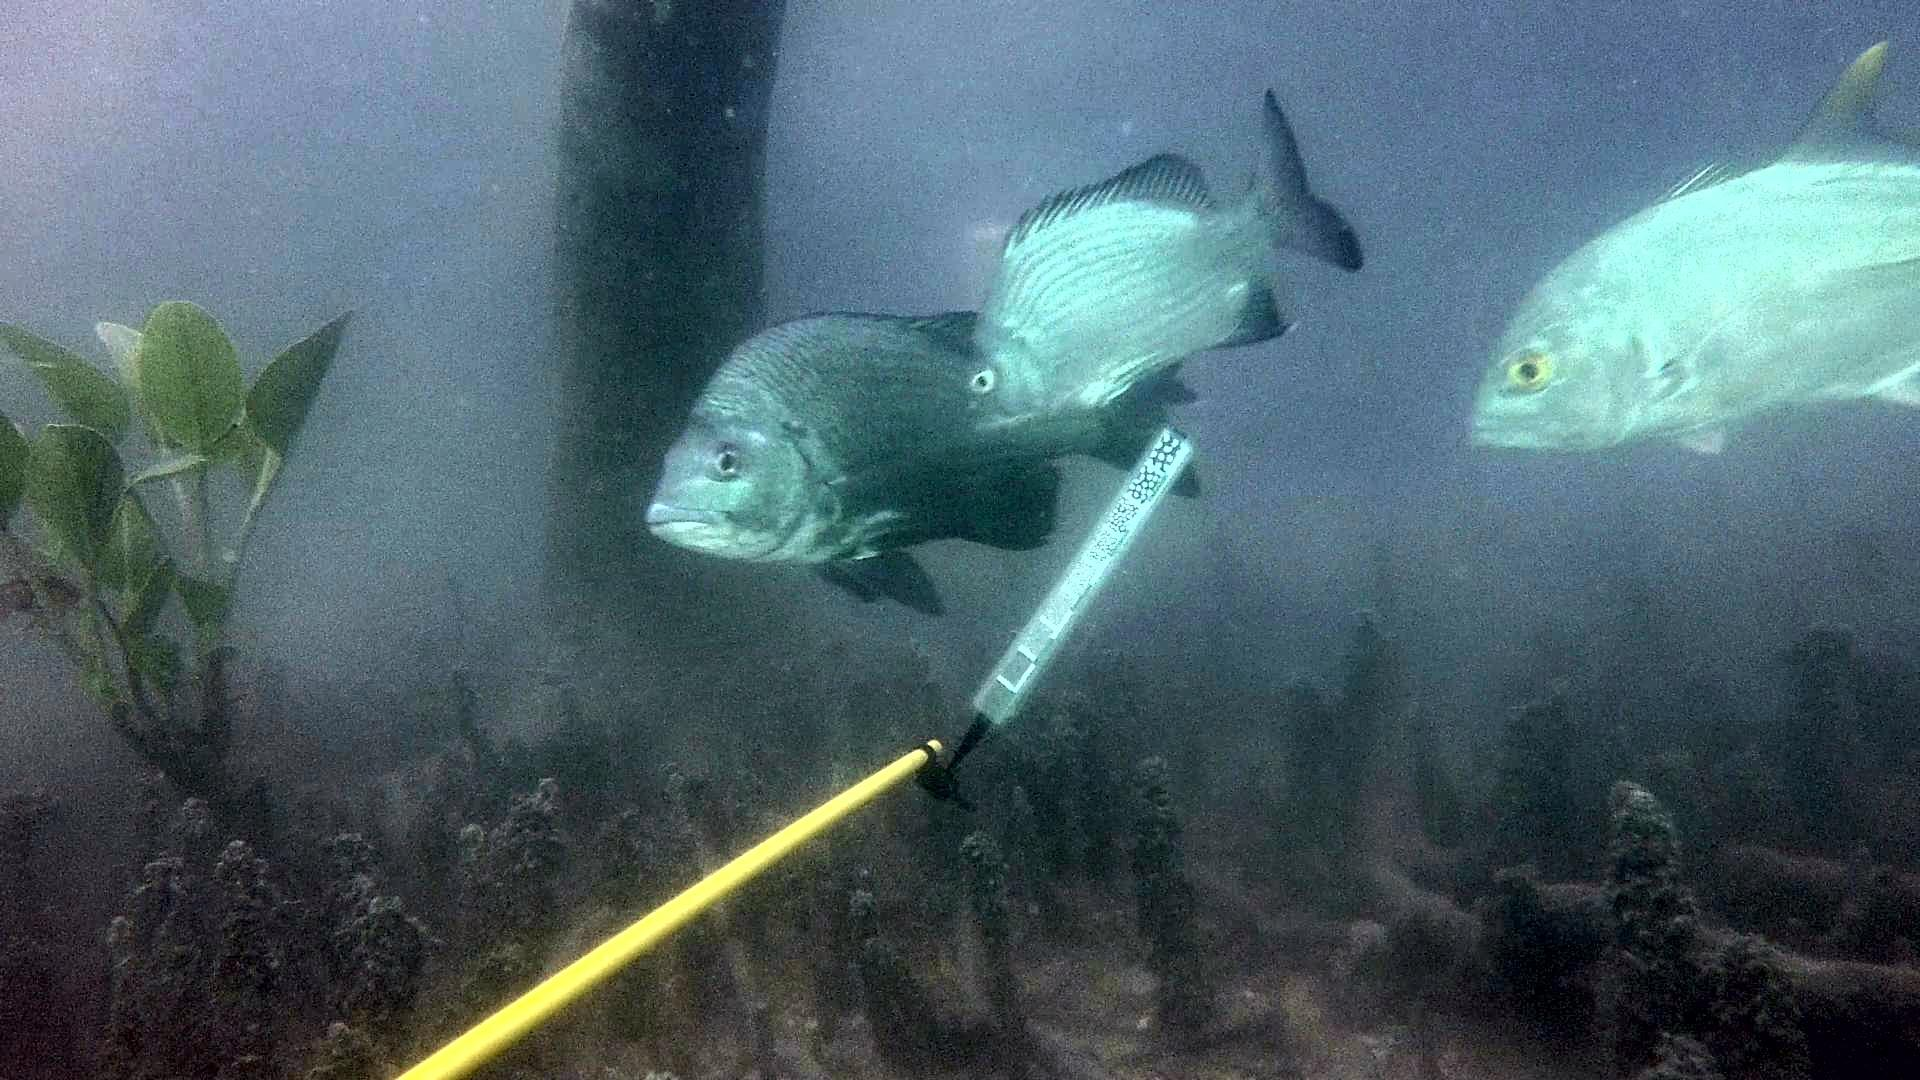acanthopagrus palmaris: (635, 298, 1218, 623), (953, 80, 1376, 455)
caranx: (1460, 35, 1920, 467)
